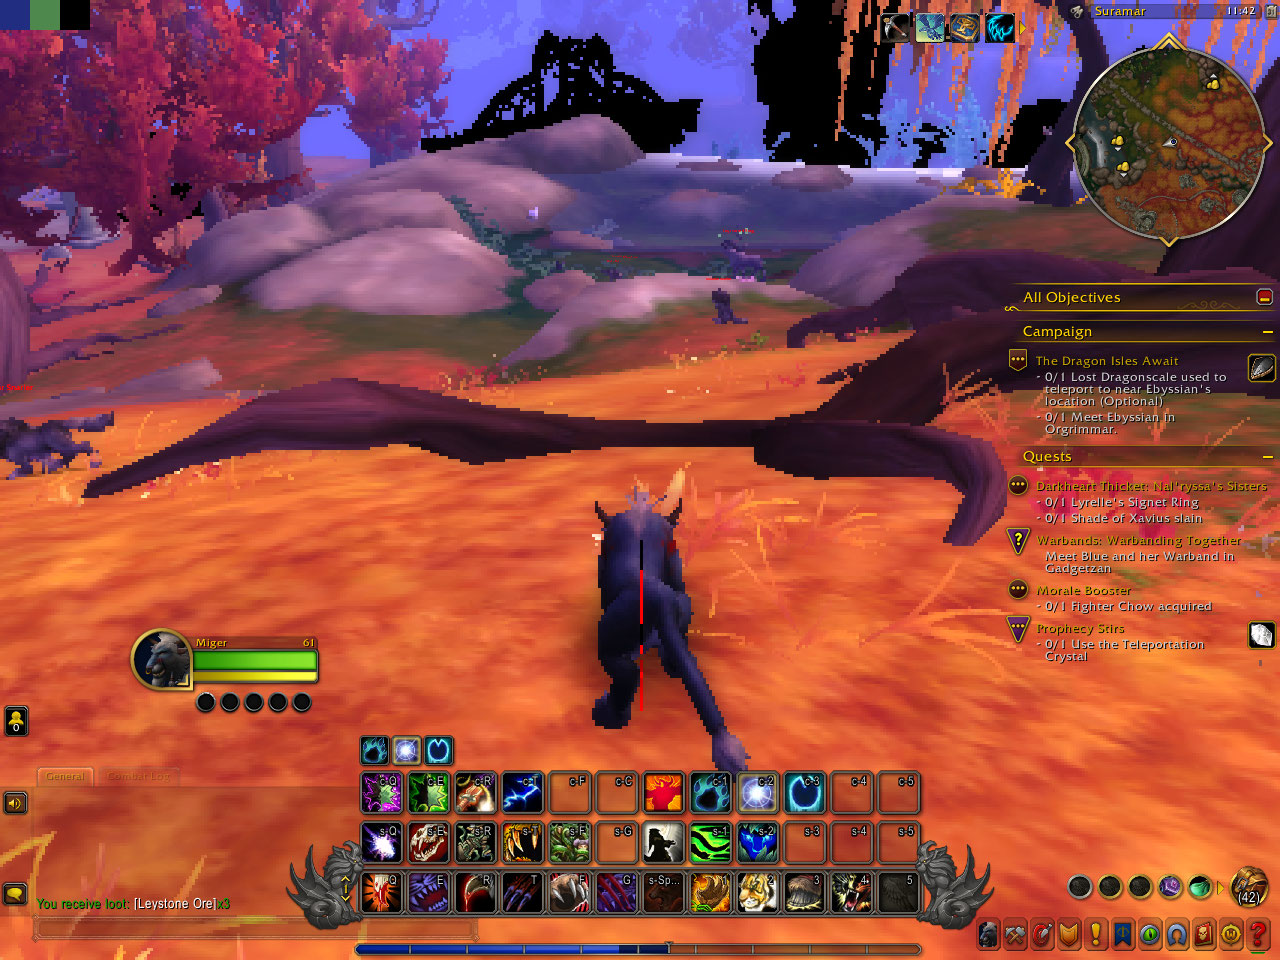ore: (526, 204, 542, 222)
